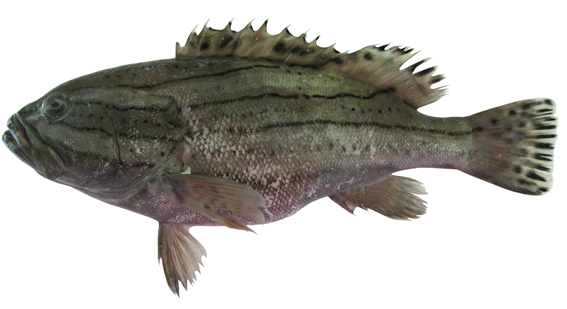fish: (2, 17, 558, 299)
